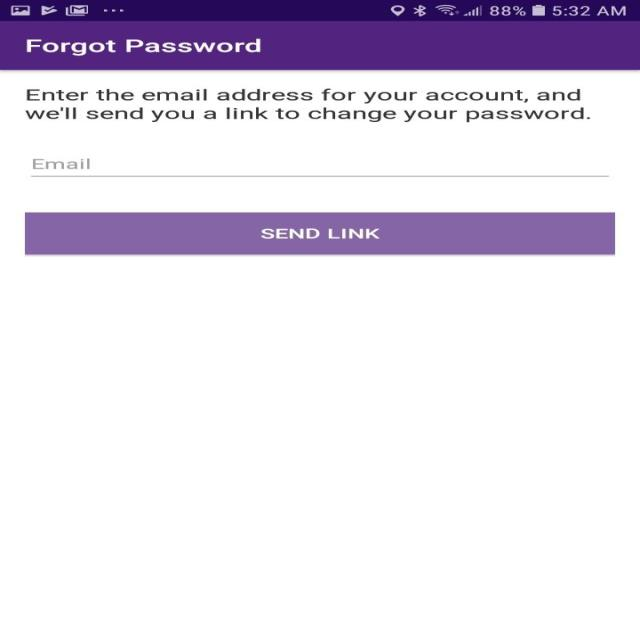EditText: (30, 158, 608, 177)
Text: (24, 88, 590, 122), (26, 38, 260, 56), (33, 158, 91, 170)
TextButton: (24, 212, 614, 254)
